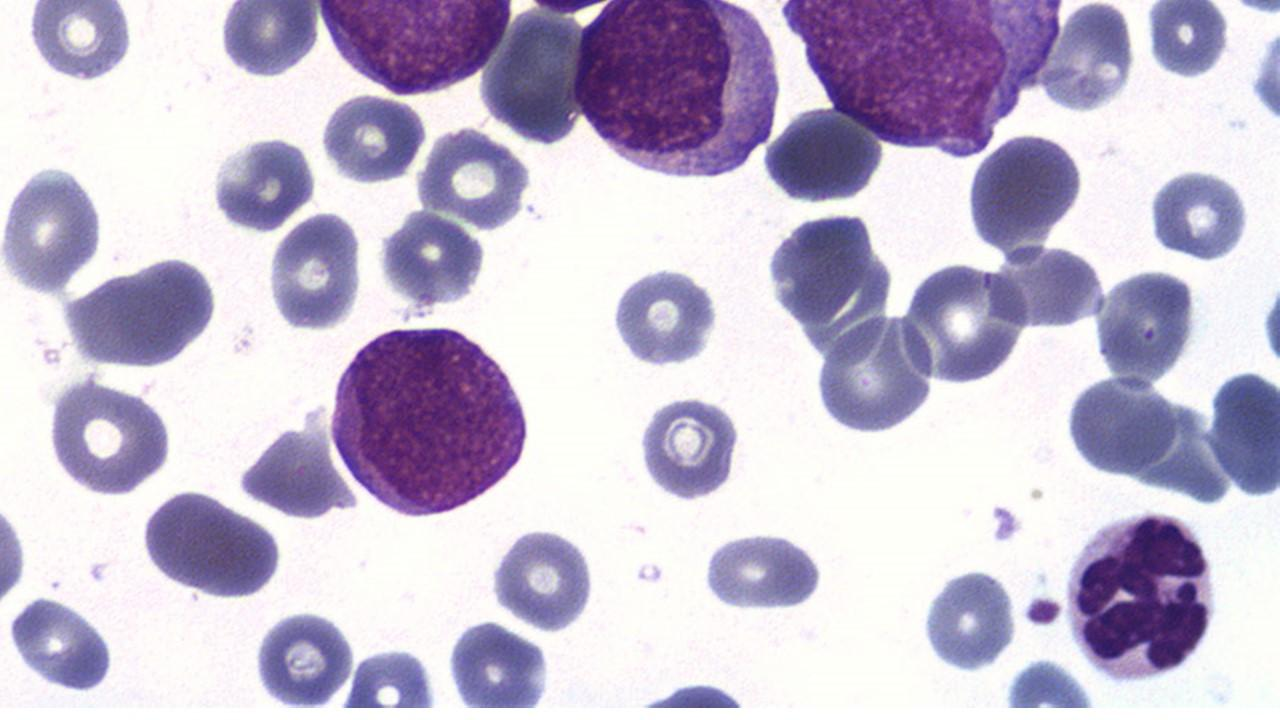Platelets: (986, 500, 1025, 548), (1020, 590, 1064, 632)
RBC: (61, 253, 226, 372), (473, 2, 591, 149), (138, 486, 287, 602), (473, 0, 588, 146), (902, 258, 1032, 386), (232, 401, 365, 526), (44, 372, 174, 498), (963, 128, 1084, 258), (812, 309, 937, 434), (0, 160, 104, 295), (759, 101, 890, 206), (1091, 264, 1199, 386), (1063, 370, 1179, 482), (607, 260, 724, 371), (412, 124, 534, 230), (636, 390, 744, 504), (266, 209, 365, 333), (488, 524, 598, 634), (916, 563, 1022, 676), (377, 205, 488, 310), (1141, 163, 1253, 266), (1037, 1, 1139, 114), (698, 526, 828, 614), (6, 592, 118, 694), (207, 132, 319, 234), (249, 606, 357, 709), (1203, 363, 1280, 502), (442, 616, 557, 709), (317, 90, 428, 186), (23, 1, 135, 87), (215, 0, 322, 80), (335, 643, 442, 708), (1144, 4, 1232, 82), (1000, 656, 1096, 708), (630, 676, 754, 708), (0, 492, 30, 618), (1251, 6, 1280, 133), (1256, 259, 1280, 385)
WBC: (323, 316, 536, 524), (775, 0, 1059, 154), (570, 0, 784, 185), (1058, 504, 1228, 688), (314, 0, 516, 99)
